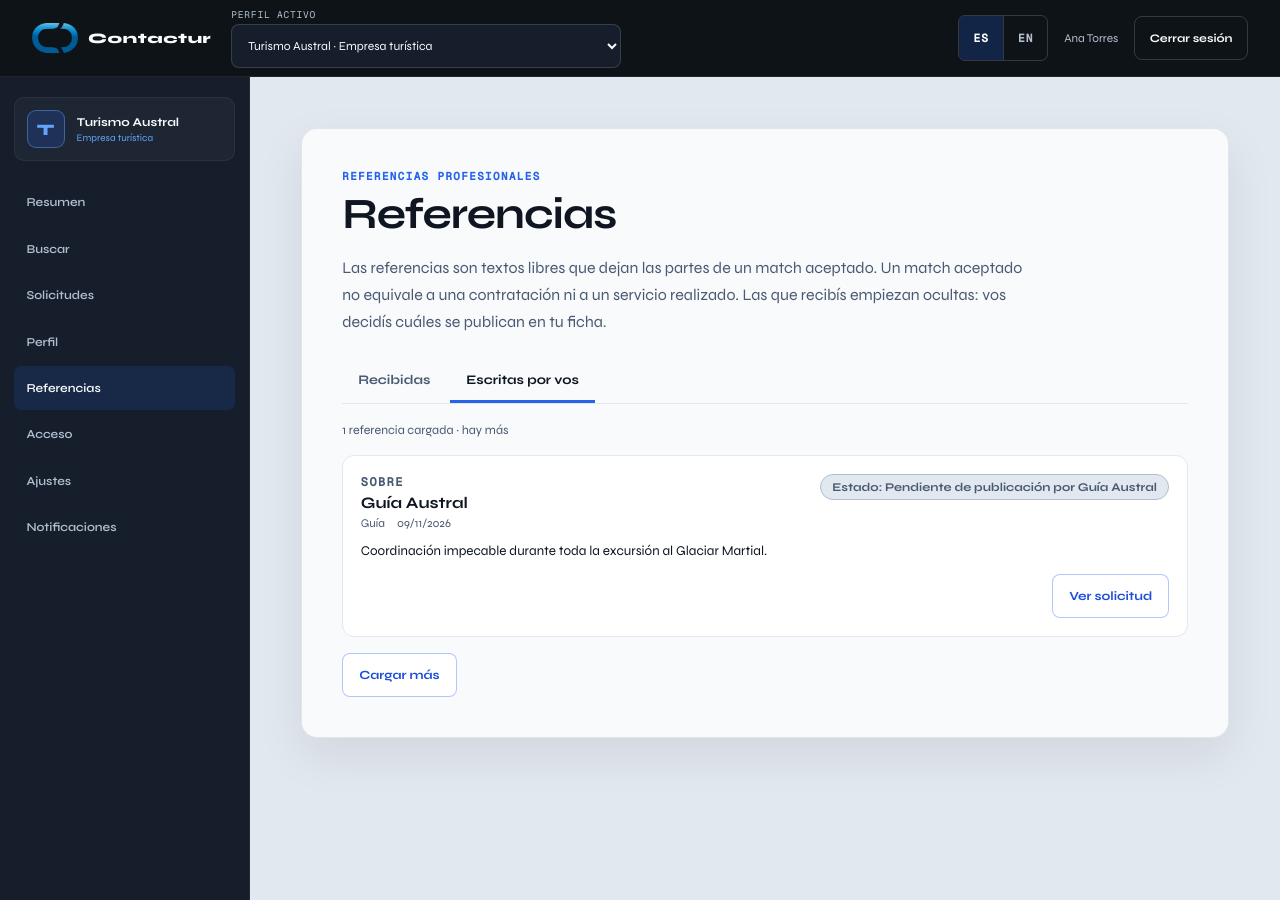
Test: T20 — listado de referencias › abre la pestaña de la URL y carga más por cursor sin duplicar ni escribir el cursor en la URL
Check: the heading "Referencias" is shown, box [342,188,616,240]
Check: the element "Guía Austral" is shown, box [342,455,1188,636]
Click the button "Cargar más".
click(399, 674)  # box [342,652,457,696]
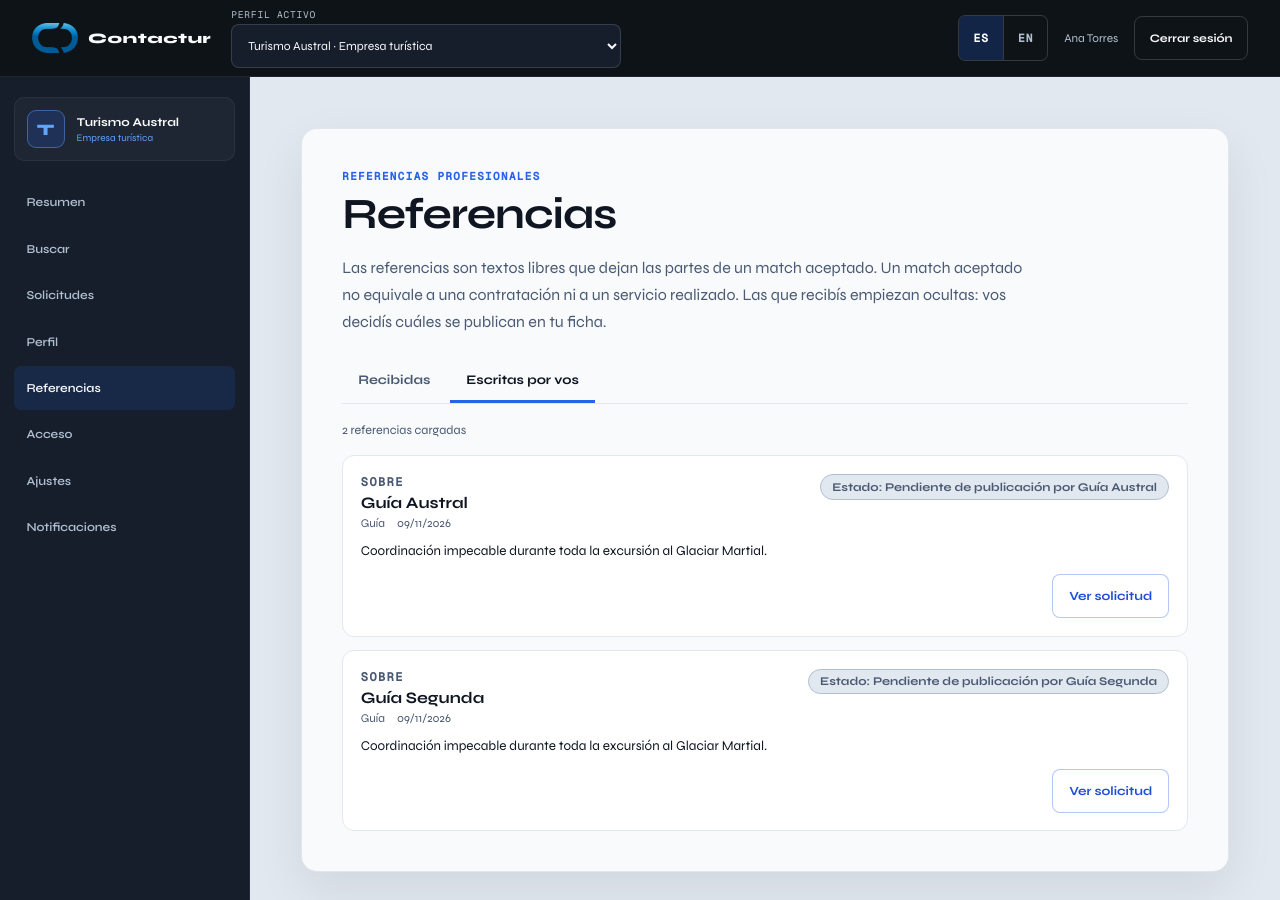
Check: the element "Guía Segunda" is shown, box [342,650,1188,831]
Check: the button "Cargar más" is gone
